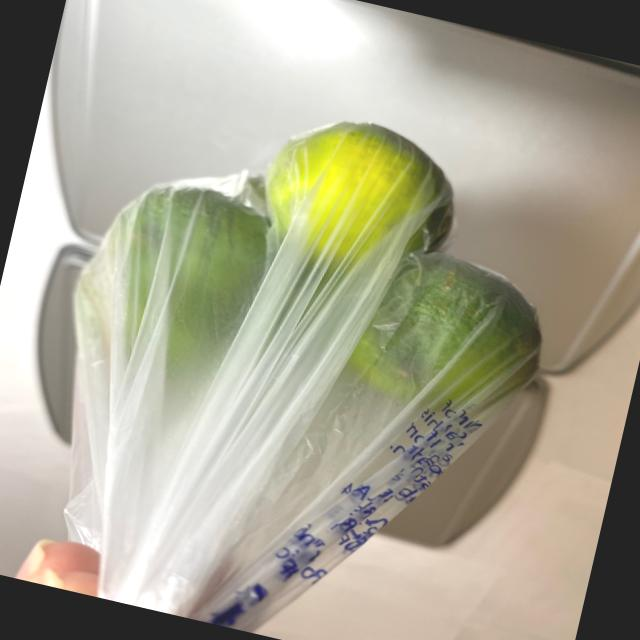lemon: (56, 61, 586, 479)
